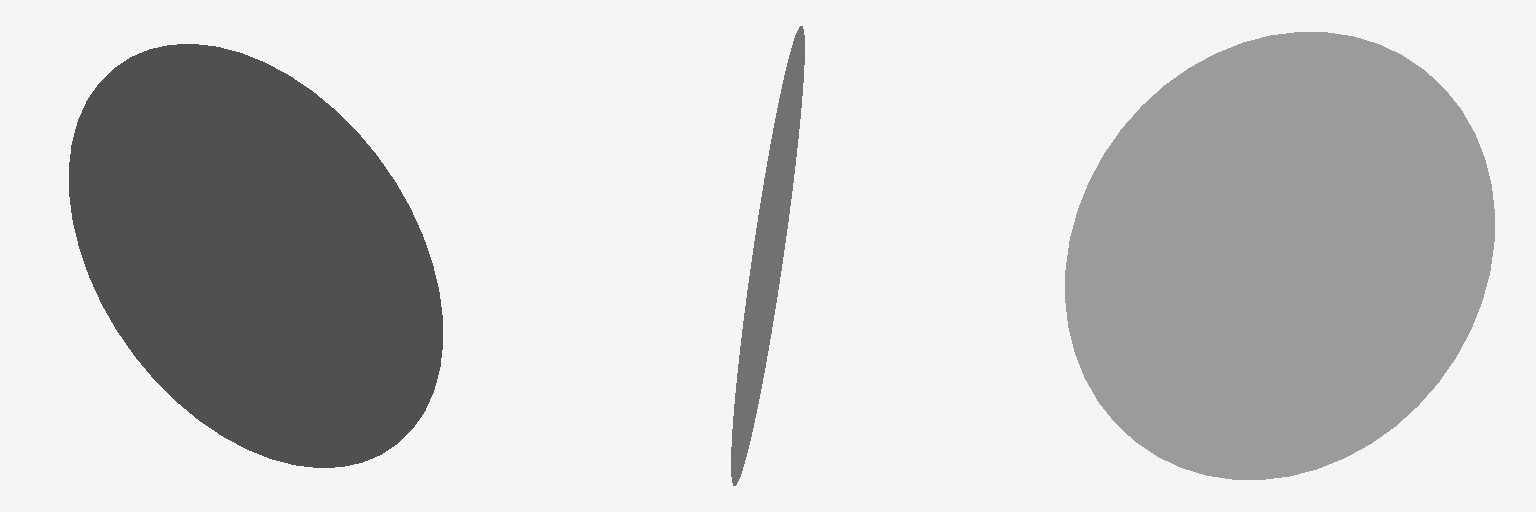
Rendered from stoplight_right.obj.
3 renders of one model, left to right at view 1: azimuth 30°, elevation 25°; view 2: azimuth 150°, elevation 25°; view 3: azimuth 270°, elevation 25°, orthographic.
Visible parts, largest first — view 1: stoplight_right; view 2: stoplight_right; view 3: stoplight_right.
Boxes of the visible parts, x1=… form: stoplight_right: x1=69, y1=44, x2=442, y2=467; stoplight_right: x1=731, y1=26, x2=804, y2=485; stoplight_right: x1=1065, y1=32, x2=1494, y2=479.
Bounding box in the file's own units: 0.0569 × 0.1406 × 0.1298.